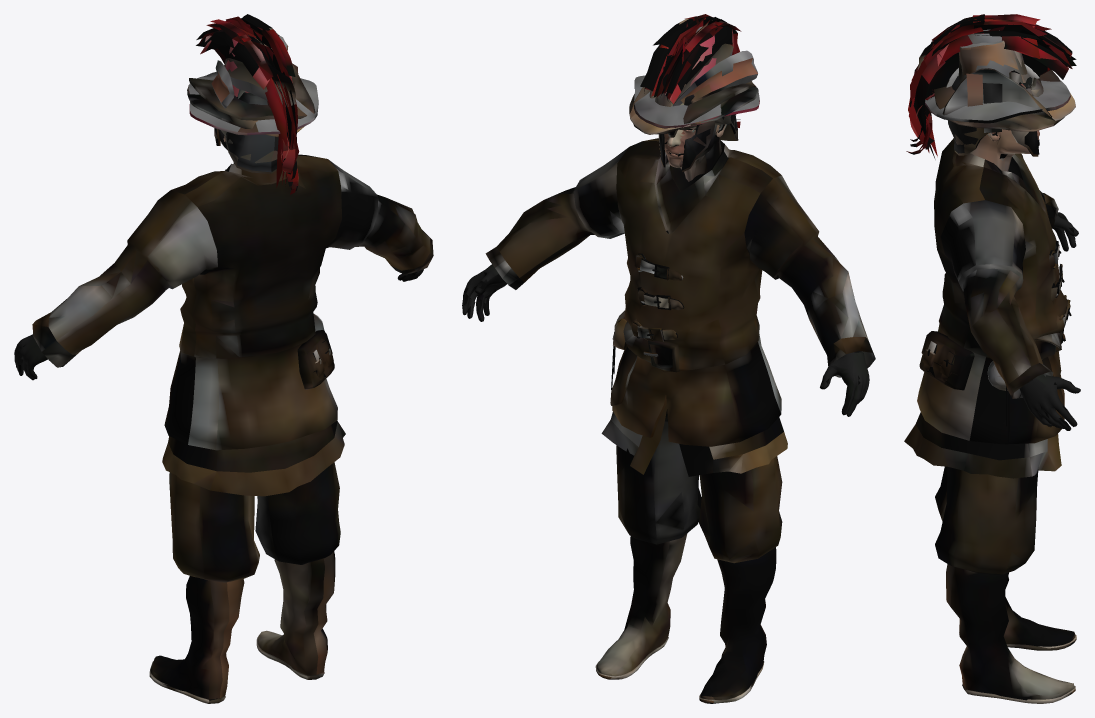
The picture shows the model from 3 angles, left to right: view 1: azimuth 30°, elevation 25°; view 2: azimuth 150°, elevation 25°; view 3: azimuth 270°, elevation 25°; orthographic projection. The views are drawn at different scales.
Parts seen in each view (by area): view 1: mesh_0; view 2: mesh_0; view 3: mesh_0.
Part boxes in pixels (box(x1,y1,x2,y2)): mesh_0: box(14, 14, 433, 703); mesh_0: box(462, 14, 875, 703); mesh_0: box(904, 14, 1080, 703).
Bounding box in the file's own units: 49.97 × 78.08 × 19.2.
1 material, 1 textured.
